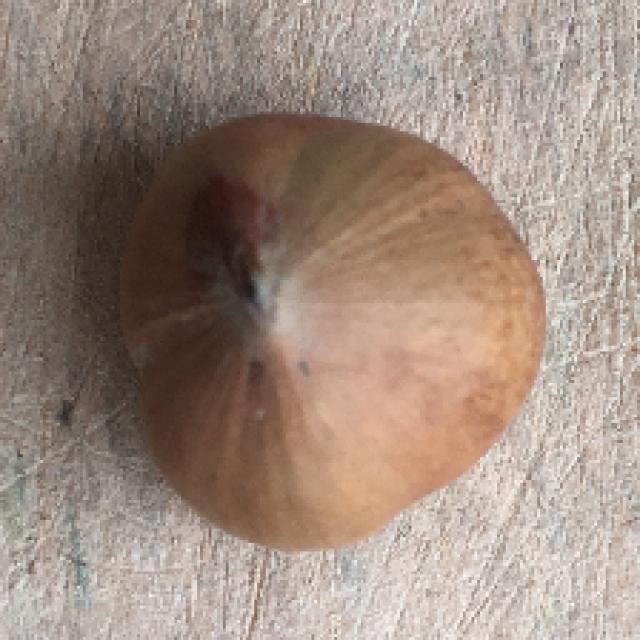qualityHazelnut: (125, 112, 546, 562)
